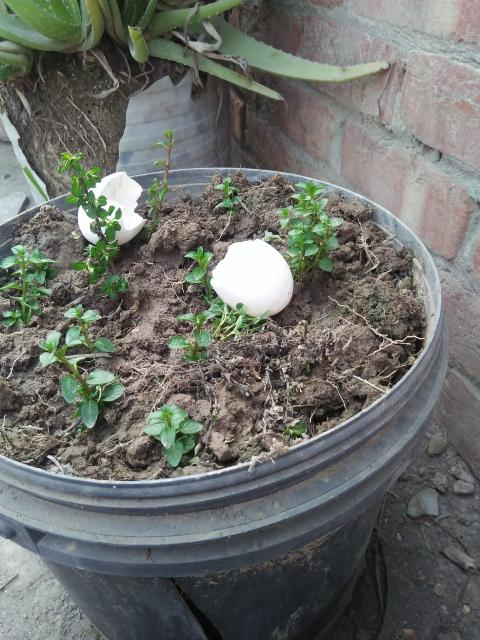Roto: (209, 238, 294, 318), (77, 170, 146, 247)
